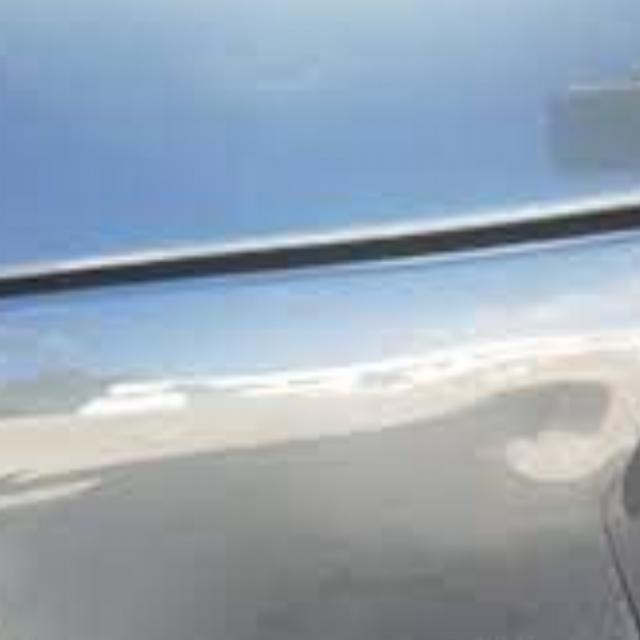dents: (488, 378, 640, 494)
